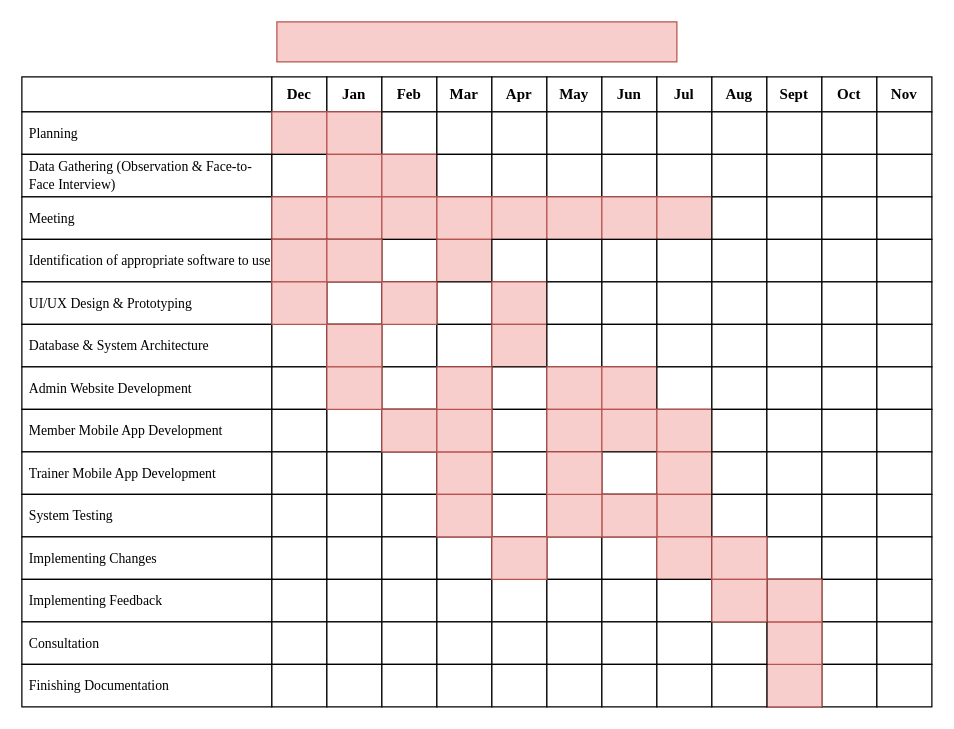
The diagram is 954 pixels wide and 729 high, and some of its shapes have lost their labels. The centre of each missing label's shape, as x and y in pixels:
Activities: (146,94)
Gantt chart: (476,41)
